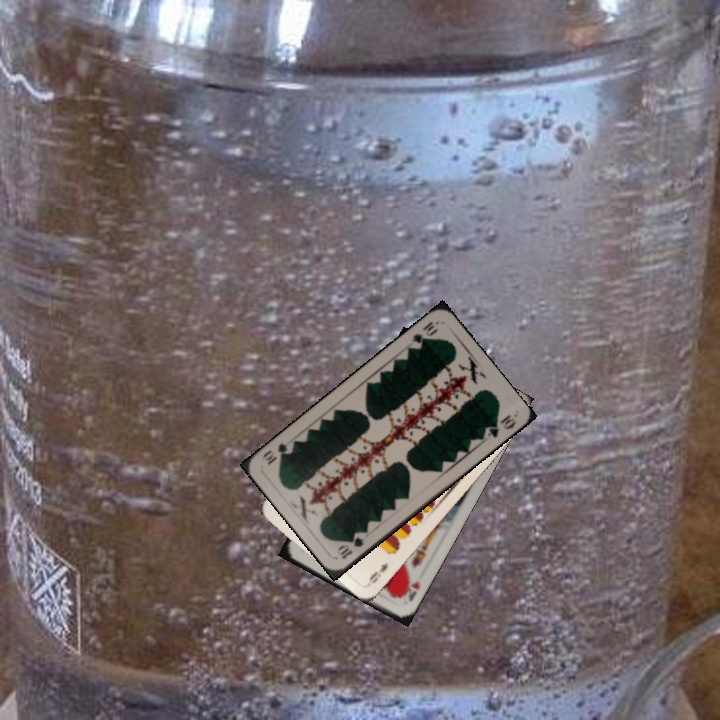E9: (364, 558, 390, 588)
G10: (407, 317, 440, 352), (337, 533, 366, 562)
HK: (396, 575, 423, 604)
